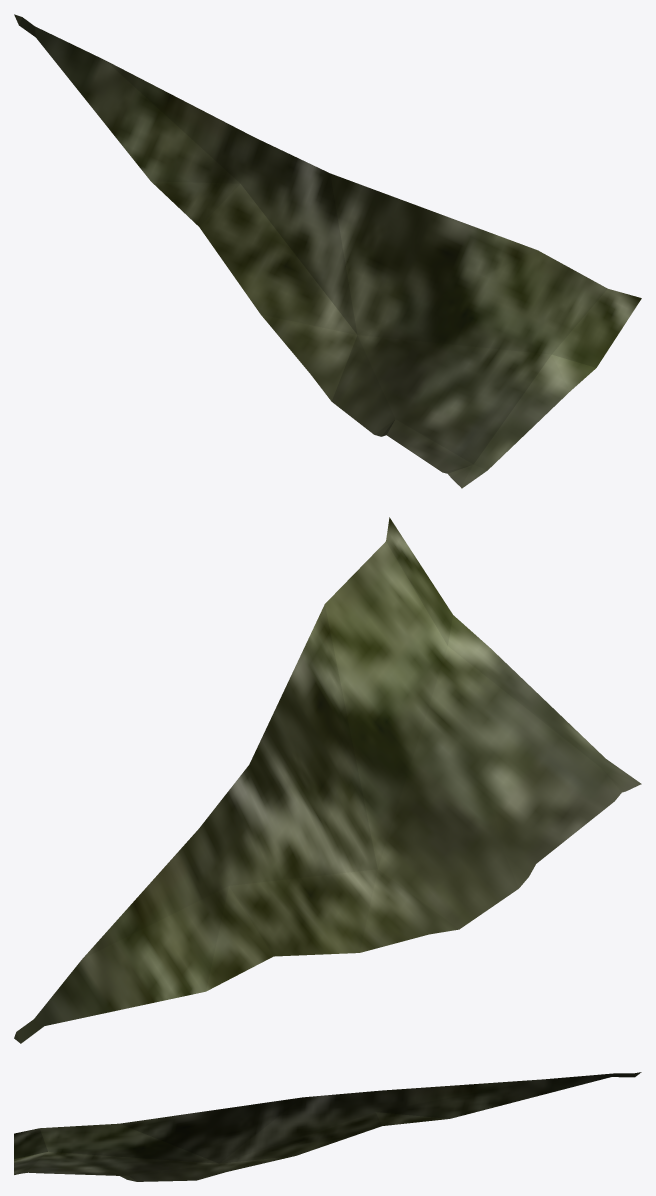
The picture shows the model from 3 angles, top to bottom: view 1: azimuth 30°, elevation 25°; view 2: azimuth 150°, elevation 25°; view 3: azimuth 270°, elevation 25°; orthographic projection. The views are drawn at different scales.
Size of the model in its own units: 0.3807 by 0.3169 by 1.64.
Materials: 1 (1 with a texture image).
